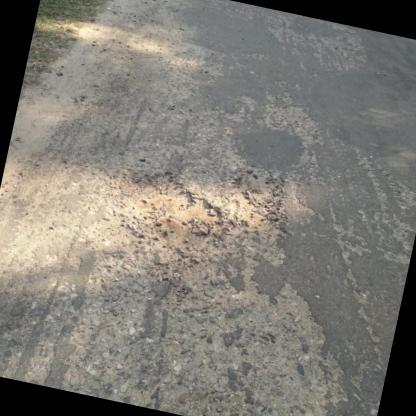pothole: (104, 160, 229, 261), (217, 161, 296, 241)
